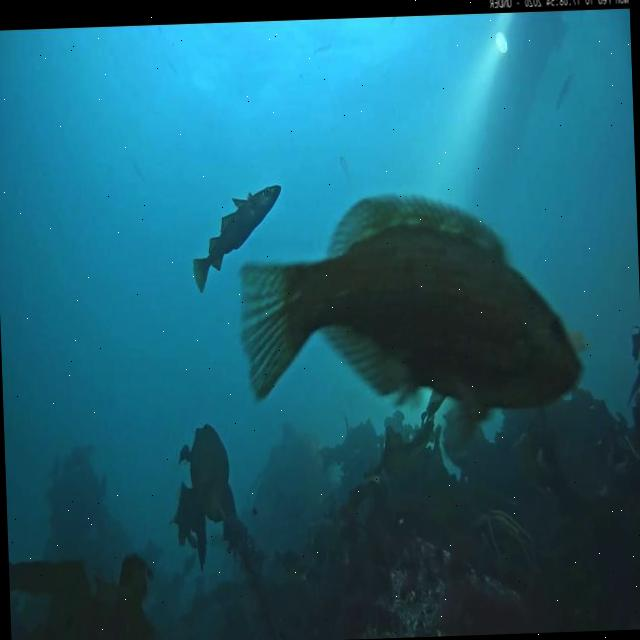fish: (236, 186, 584, 451), (189, 184, 284, 292), (556, 72, 572, 108), (339, 154, 352, 185)
